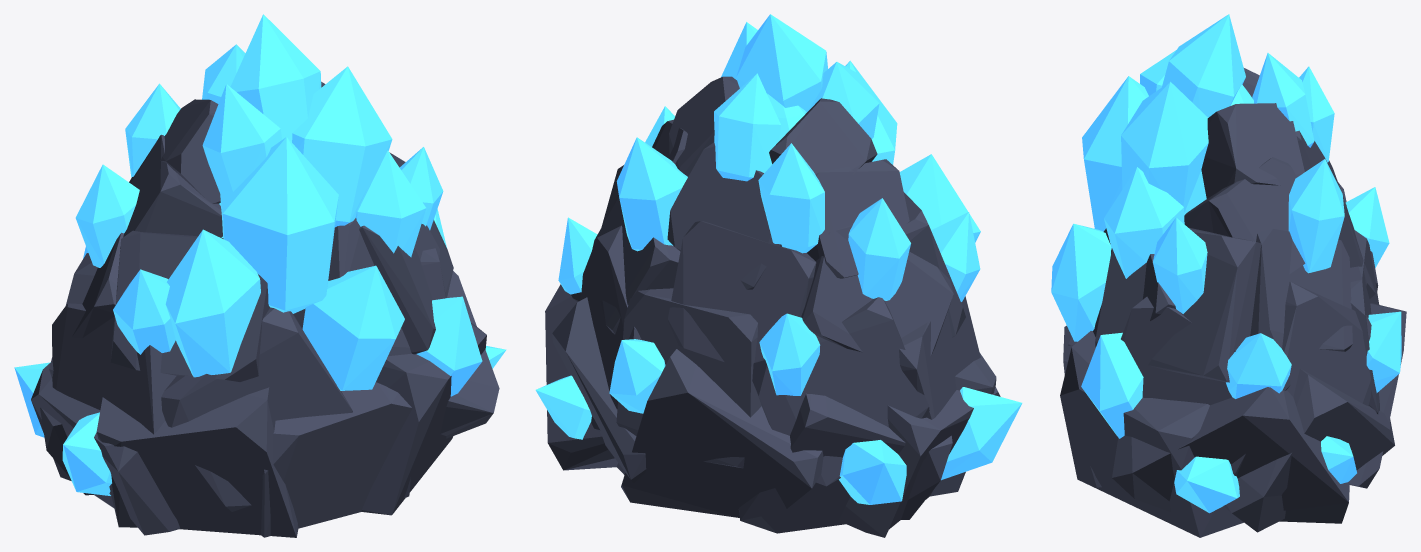
Rendered from Ore_Mithril.fbx.
The picture shows the model from 3 angles, left to right: view 1: azimuth 30°, elevation 25°; view 2: azimuth 150°, elevation 25°; view 3: azimuth 270°, elevation 25°; orthographic projection. The views are drawn at different scales.
Parts seen in each view (by area): view 1: Ore_Rock, Ore_Crystal; view 2: Ore_Rock, Ore_Crystal; view 3: Ore_Rock, Ore_Crystal.
Boxes of the visible parts, x1,y1,x2,y2 form: Ore_Rock: (31,81,499,537); Ore_Crystal: (14,14,506,495); Ore_Rock: (545,76,1000,537); Ore_Crystal: (535,14,1022,504); Ore_Rock: (1060,68,1406,537); Ore_Crystal: (1051,14,1401,513).
Size of the model in its own units: 2.06 by 2 by 1.46.
